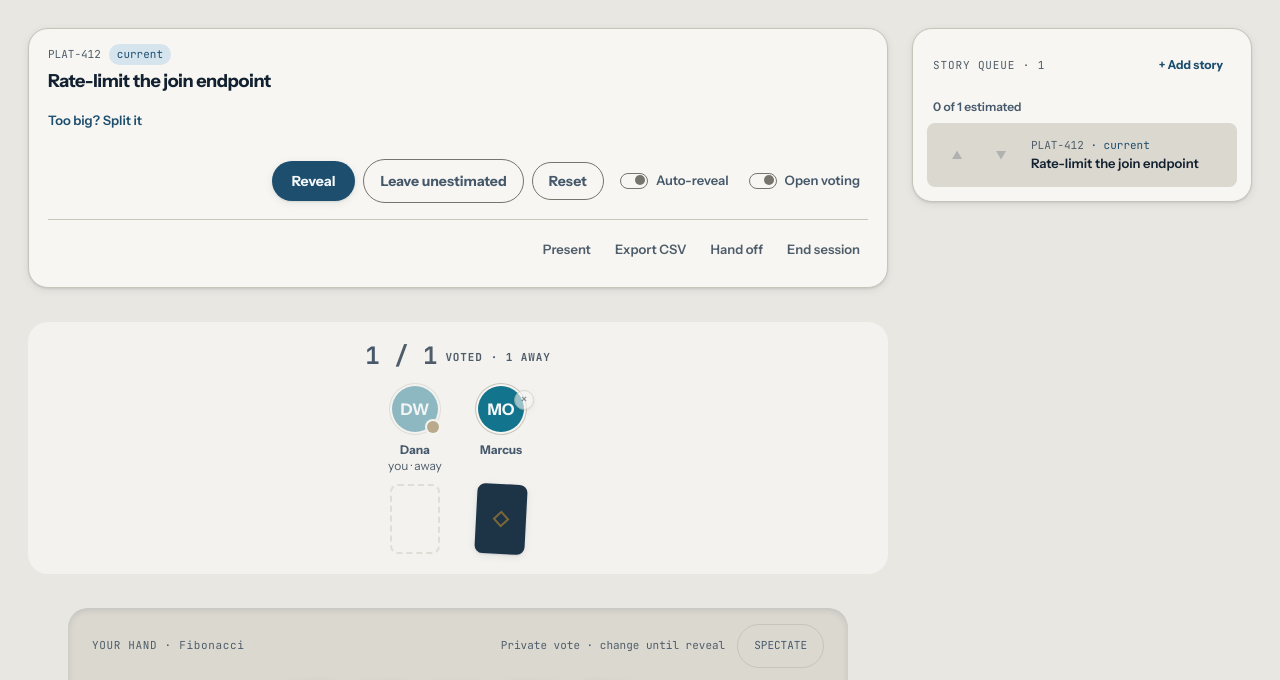
PokerRoom errors › reports a failed reveal beside the button that failed, with a retry
Click the button "Reveal" at {"x": 314, "y": 180}, box [272, 160, 355, 200]
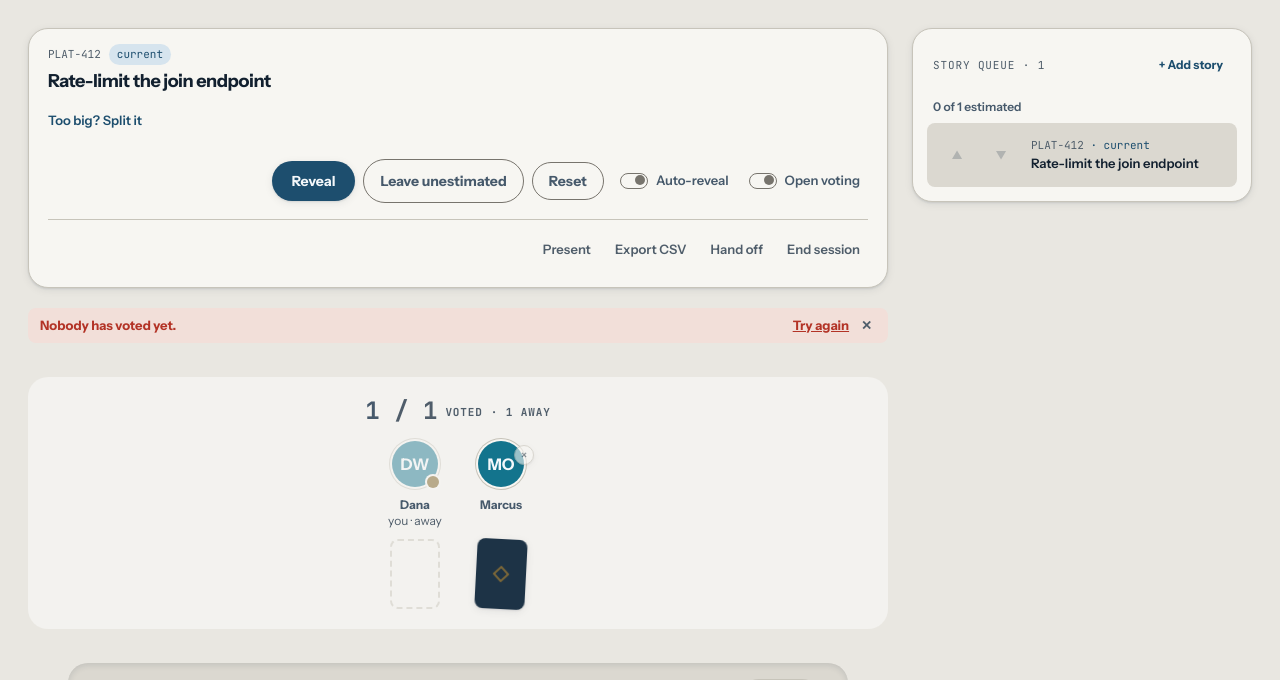
Expected: the message shows "Nobody has voted yet.", [40, 316, 176, 332]
Expected: the button "Try again" is shown, [793, 316, 849, 335]
Click the button named "Dismiss error" at {"x": 867, "y": 325}, box [857, 316, 876, 335]
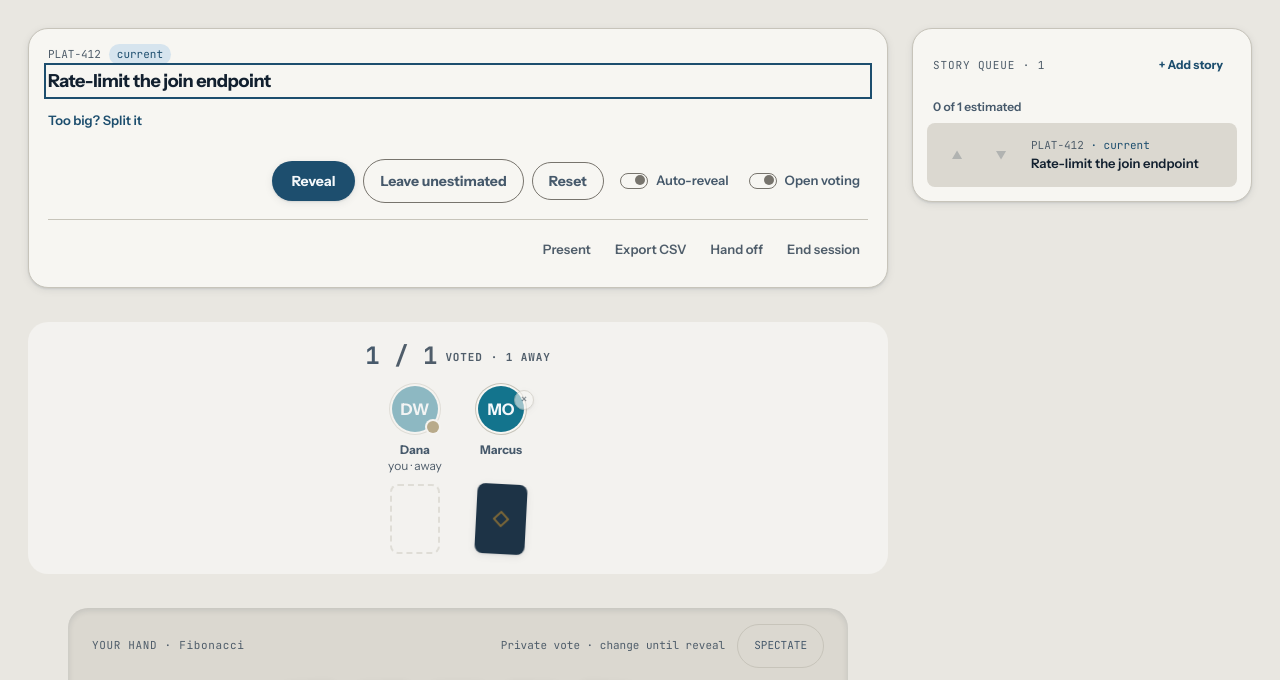
Expected: the message "Nobody has voted yet. Try again ✕" is gone
